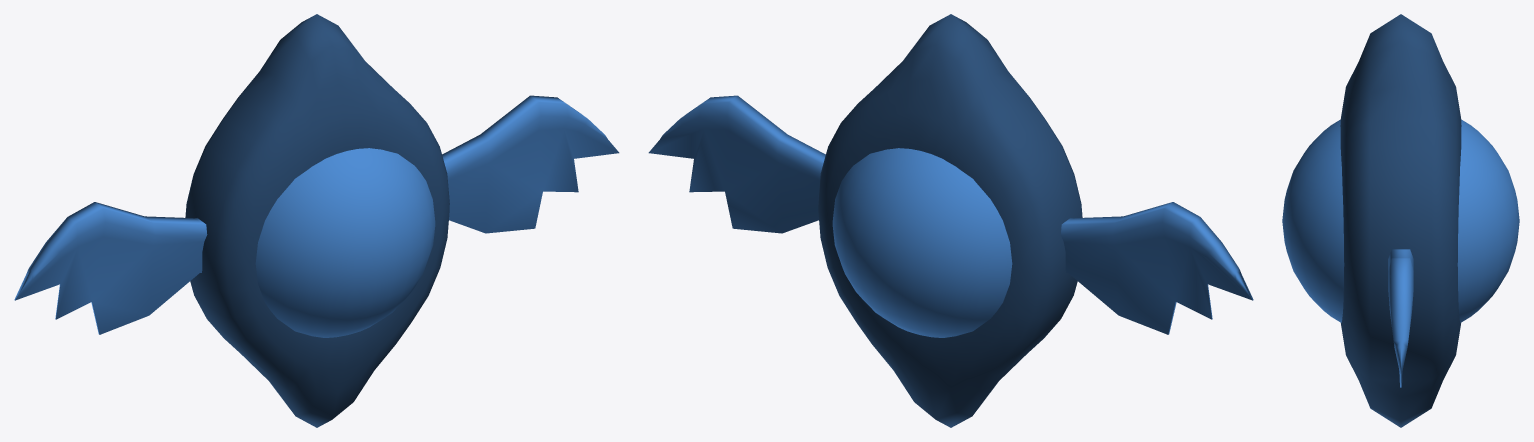
The picture shows the model from 3 angles, left to right: view 1: azimuth 30°, elevation 25°; view 2: azimuth 150°, elevation 25°; view 3: azimuth 270°, elevation 25°; orthographic projection.
Visible parts, largest first — view 1: Torso, Flügel, Auge; view 2: Torso, Flügel, Auge; view 3: Torso, Auge, Flügel.
Boxes of the visible parts, bbox=[...] form: Torso: bbox=[185, 14, 449, 427]; Flügel: bbox=[14, 95, 619, 334]; Auge: bbox=[255, 148, 435, 337]; Torso: bbox=[818, 14, 1082, 427]; Flügel: bbox=[648, 95, 1253, 334]; Auge: bbox=[832, 148, 1012, 337]; Torso: bbox=[1340, 14, 1461, 427]; Auge: bbox=[1282, 119, 1519, 322]; Flügel: bbox=[1388, 249, 1413, 387].
Size of the model in its own units: 588 by 385 by 200.
